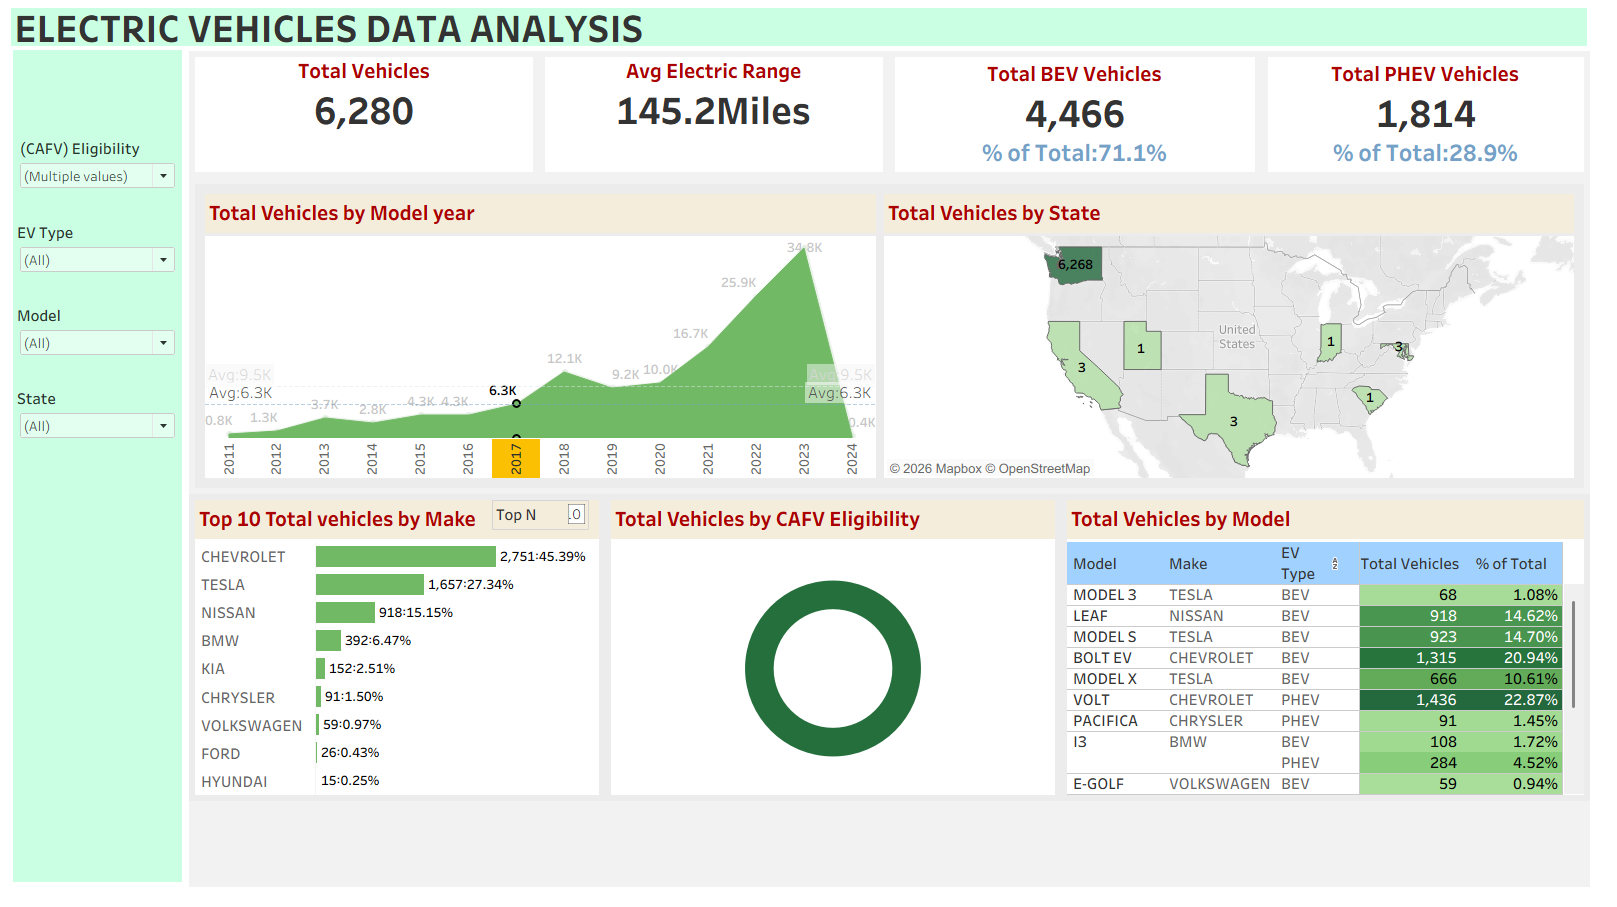

What the dashboard file says about the page in this screenshot:
{"tool":"tableau","page":{"name":"Dashboard 1","canvas":[1600,900],"ordinal":0},"visuals":[{"type":"title","box":[8,8,1584,46]},{"type":"image","param":"C:/Users/anusr/OneDrive/Pictures/WhatsApp Image 2026-04-18 at 8.58.05 PM.jpeg","box":[14,54,169,84]},{"type":"worksheet","title":"Total vehicles","mark":"Automatic","box":[190,55,350.3,126.7]},{"type":"worksheet","title":"Avg Electric Range","mark":"Automatic","box":[540.3,55,350.2,126.7]},{"type":"worksheet","title":"Total BEV Vehicles","mark":"Automatic","box":[890.5,55,372.4,126.7]},{"type":"worksheet","title":"Total PHEV Vehicles","mark":"Automatic","box":[1262.8,55,328.2,126.7]},{"type":"filter","title":"Total Vehicles by Model year","param":"[federated.1nuhymz055jk5u1crj66r15q2ft6].[none:Clean Alternative Fuel Vehicle (C","box":[14,138,169,84]},{"type":"worksheet","title":"Total Vehicles by Model year","mark":"Area","rows":["Calculation_2555866957795328","Calculation_2555866957795328"],"cols":["Model Year"],"box":[202,193.7,679,292]},{"type":"worksheet","title":"Total Vehicles by State","mark":"Multipolygon","box":[881,193.7,698,292]},{"type":"filter","title":"Total Vehicles by Model year","param":"[federated.1nuhymz055jk5u1crj66r15q2ft6].[none:Electric Vehicle Type:nk]","box":[14,222,169,83]},{"type":"filter","title":"Total Vehicles by Model year","param":"[federated.1nuhymz055jk5u1crj66r15q2ft6].[none:Model:nk]","box":[14,305,169,83]},{"type":"filter","title":"Total Vehicles by Model year","param":"[federated.1nuhymz055jk5u1crj66r15q2ft6].[none:State:nk]","box":[14,388,169,83]},{"type":"blank","box":[14,471,169,83]},{"type":"worksheet","title":"Top 10 Total vehicles by Make","mark":"Automatic","rows":["Make"],"cols":["Calculation_2555866957795328"],"box":[190,497.7,416,307]},{"type":"worksheet","title":"Total Vehicles by CAFV Eligibility","mark":"Pie","rows":["Calculation_0843661303320577","Calculation_0843661303480323"],"box":[606,497.7,456,307]},{"type":"worksheet","title":"Total Vehicles by Model","mark":"Square","rows":["Model","Make","Electric Vehicle Type"],"box":[1062,497.7,529,307]},{"type":"parameter","param":"[Parameters].[Parameter 1]","box":[493,504,97,30]},{"type":"blank","box":[14,554,169,83]},{"type":"blank","box":[14,637,169,83]},{"type":"blank","box":[14,720,169,83]},{"type":"blank","box":[14,803,169,83]}]}

Visuals, with their boxes in screenshot pixels (x1, y1, x2, y2), scaled from the page's 1600x900 canvas onto the 1617x907 screenshot:
title: 8 8 1609 54
image: 14 54 185 139
"Total vehicles" worksheet: 192 55 546 183
"Avg Electric Range" worksheet: 546 55 900 183
"Total BEV Vehicles" worksheet: 900 55 1276 183
"Total PHEV Vehicles" worksheet: 1276 55 1608 183
"Total Vehicles by Model year" filter: 14 139 185 224
"Total Vehicles by Model year" worksheet (Area marks): 204 195 890 489
"Total Vehicles by State" worksheet (Multipolygon marks): 890 195 1596 489
"Total Vehicles by Model year" filter: 14 224 185 307
"Total Vehicles by Model year" filter: 14 307 185 391
"Total Vehicles by Model year" filter: 14 391 185 475
blank: 14 475 185 558
"Top 10 Total vehicles by Make" worksheet: 192 502 612 811
"Total Vehicles by CAFV Eligibility" worksheet (Pie marks): 612 502 1073 811
"Total Vehicles by Model" worksheet (Square marks): 1073 502 1608 811
parameter: 498 508 596 538
blank: 14 558 185 642
blank: 14 642 185 726
blank: 14 726 185 809
blank: 14 809 185 893
